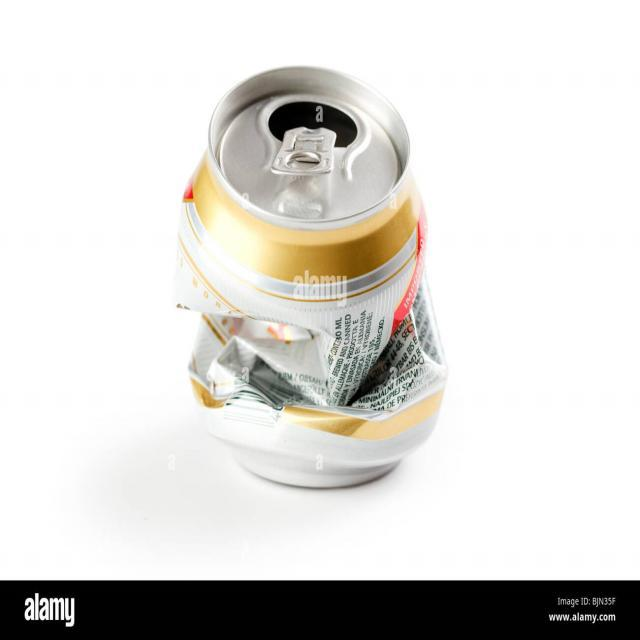kimloai: (171, 65, 451, 493)
